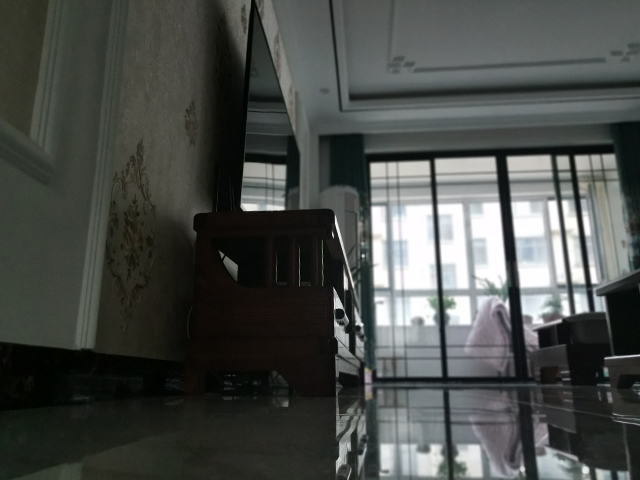cabinet: (179, 207, 368, 401)
sofa: (526, 310, 609, 389)
table: (593, 266, 640, 390)
